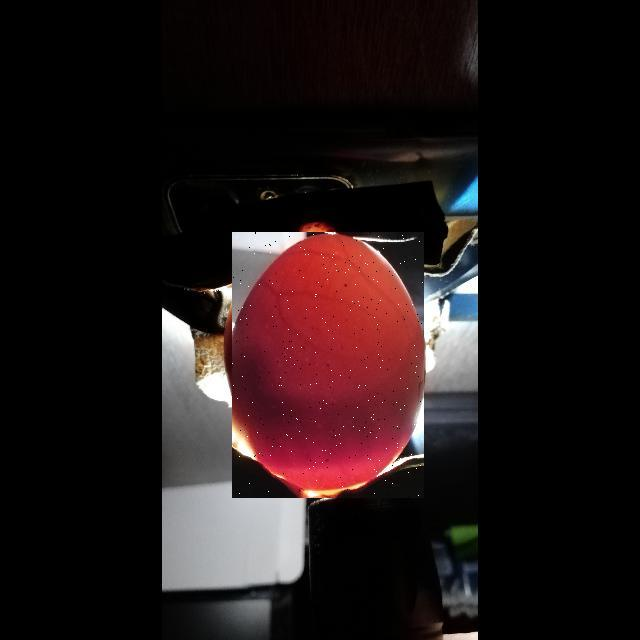Fertile: (232, 232, 424, 498)
